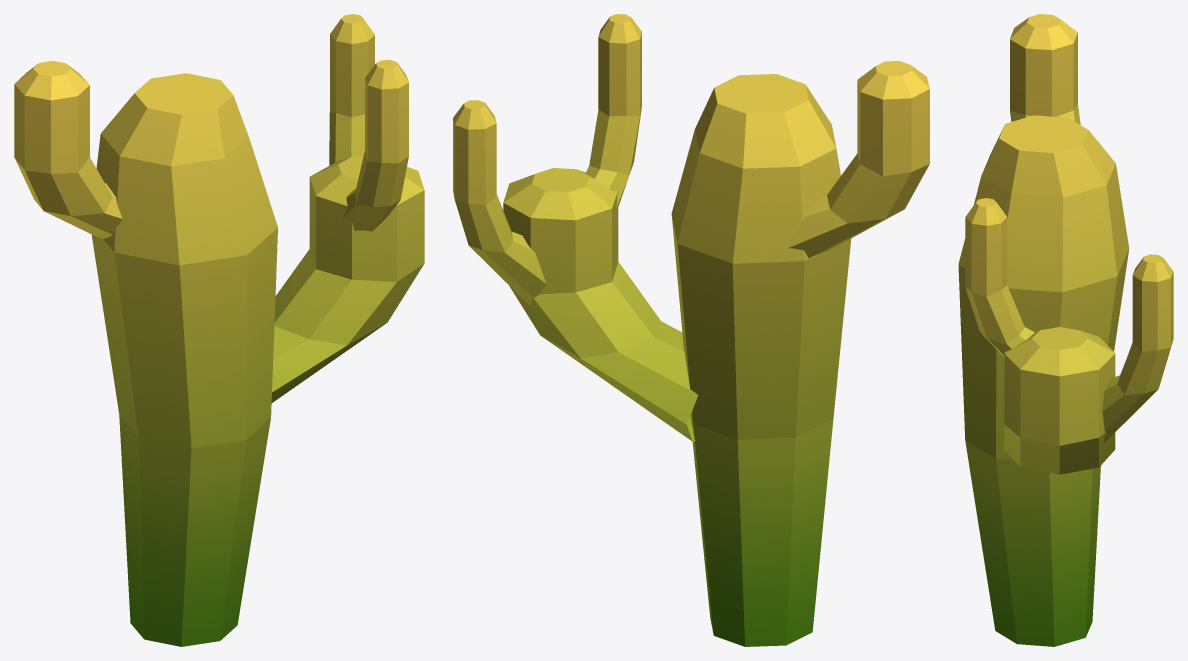
The model's file is M_cactus_B.fbx.
The picture shows the model from 3 angles, left to right: view 1: azimuth 30°, elevation 25°; view 2: azimuth 150°, elevation 25°; view 3: azimuth 270°, elevation 25°; orthographic projection. The views are drawn at different scales.
Visible parts, largest first — view 1: cactus_B; view 2: cactus_B; view 3: cactus_B.
Boxes of the visible parts, bbox=[...] form: cactus_B: bbox=[14, 14, 424, 646]; cactus_B: bbox=[453, 14, 929, 646]; cactus_B: bbox=[958, 14, 1173, 646].
Size of the model in its own units: 319 by 437 by 156.
